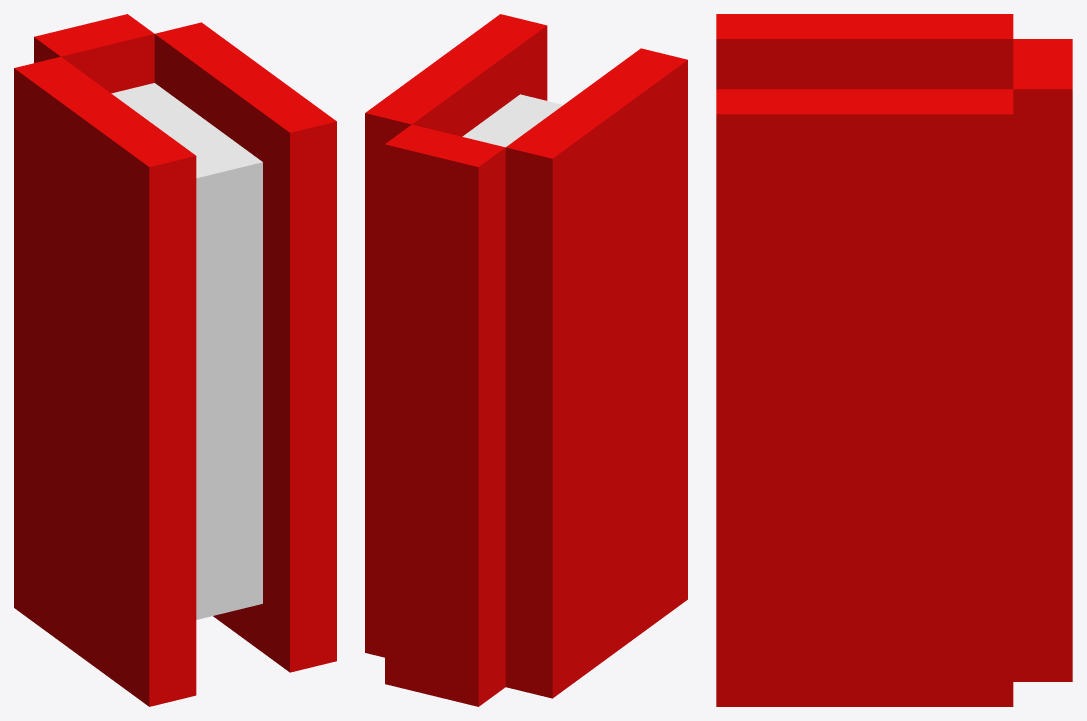
Rendered from Books.vox-4.obj.
The picture shows the model from 3 angles, left to right: view 1: azimuth 30°, elevation 25°; view 2: azimuth 150°, elevation 25°; view 3: azimuth 270°, elevation 25°; orthographic projection. The views are drawn at different scales.
Size of the model in its own units: 0.4 by 1.1 by 0.6.
Materials: 1 (1 with a texture image).
